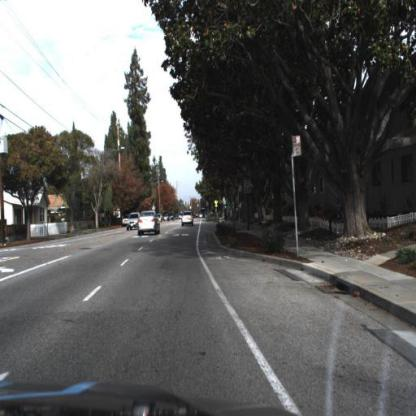car: (137, 208, 162, 236), (126, 212, 142, 233), (180, 211, 198, 228)
